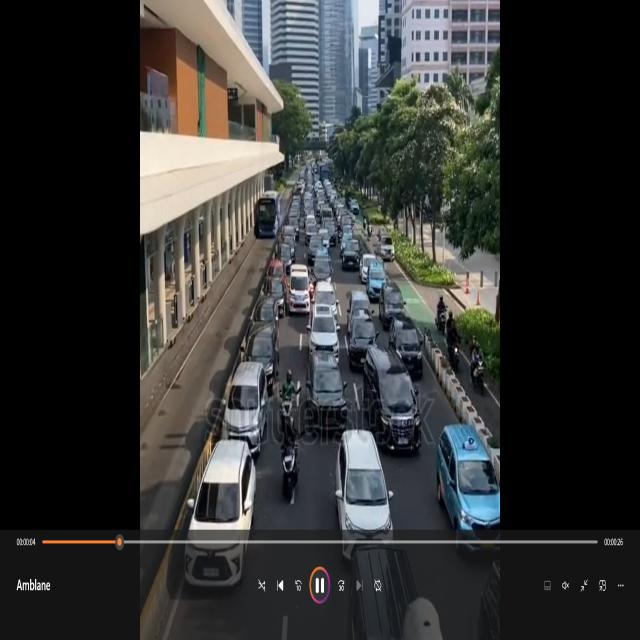Ambulance: (286, 258, 311, 316)
